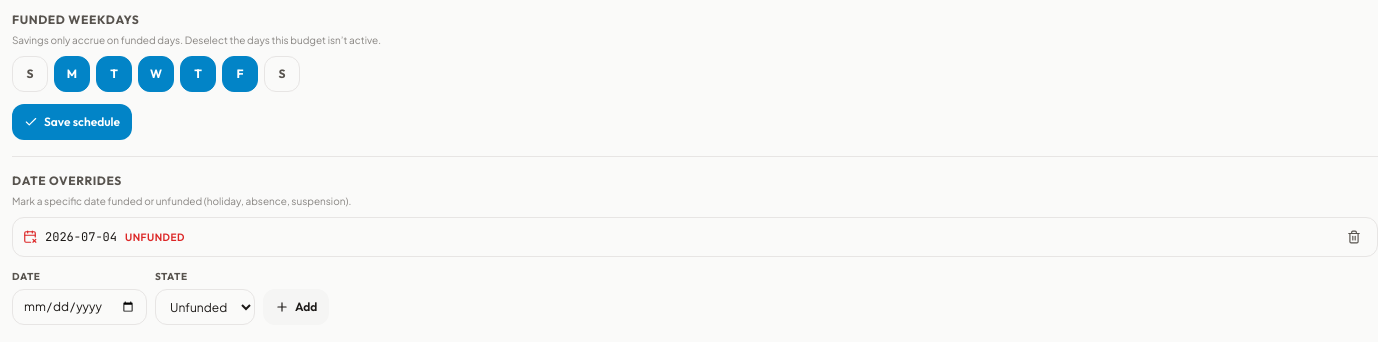
it: FundedDayConfig › removes an override via DELETE (Req 2.5, 2.6)
Click the button named "remove override for 2026-07-04" at (1354, 237), box [1341,224,1367,250]
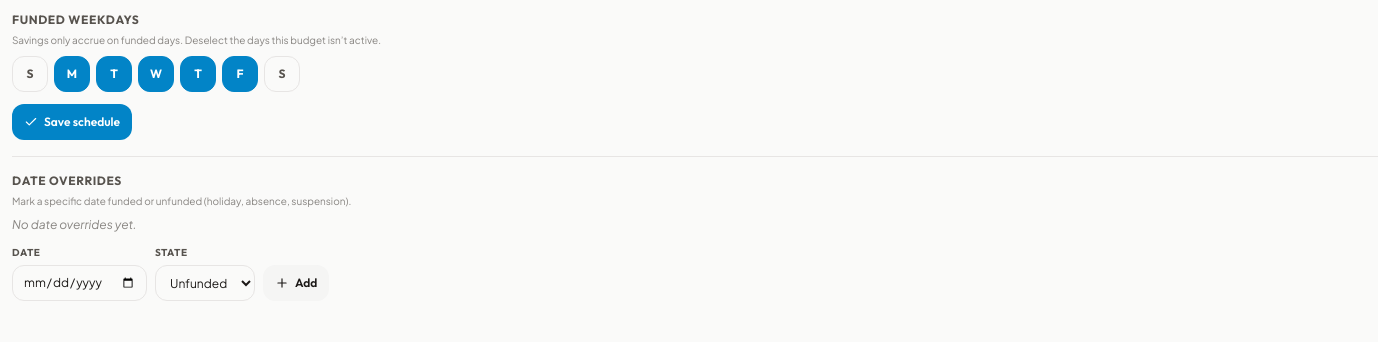
expect the text "2026-07-04" is gone: met
